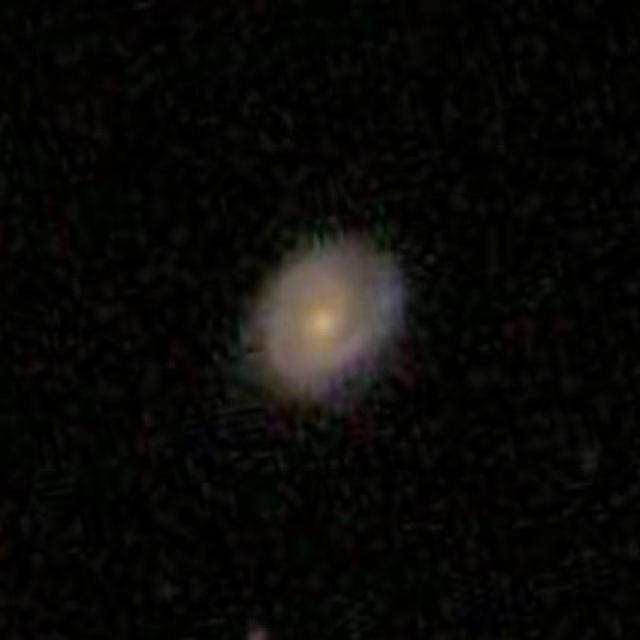galaxy: (216, 219, 419, 451)
